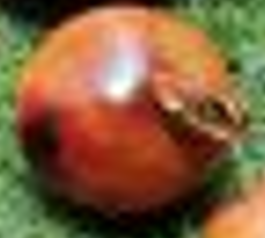pomegranate_B: (16, 1, 251, 218)
